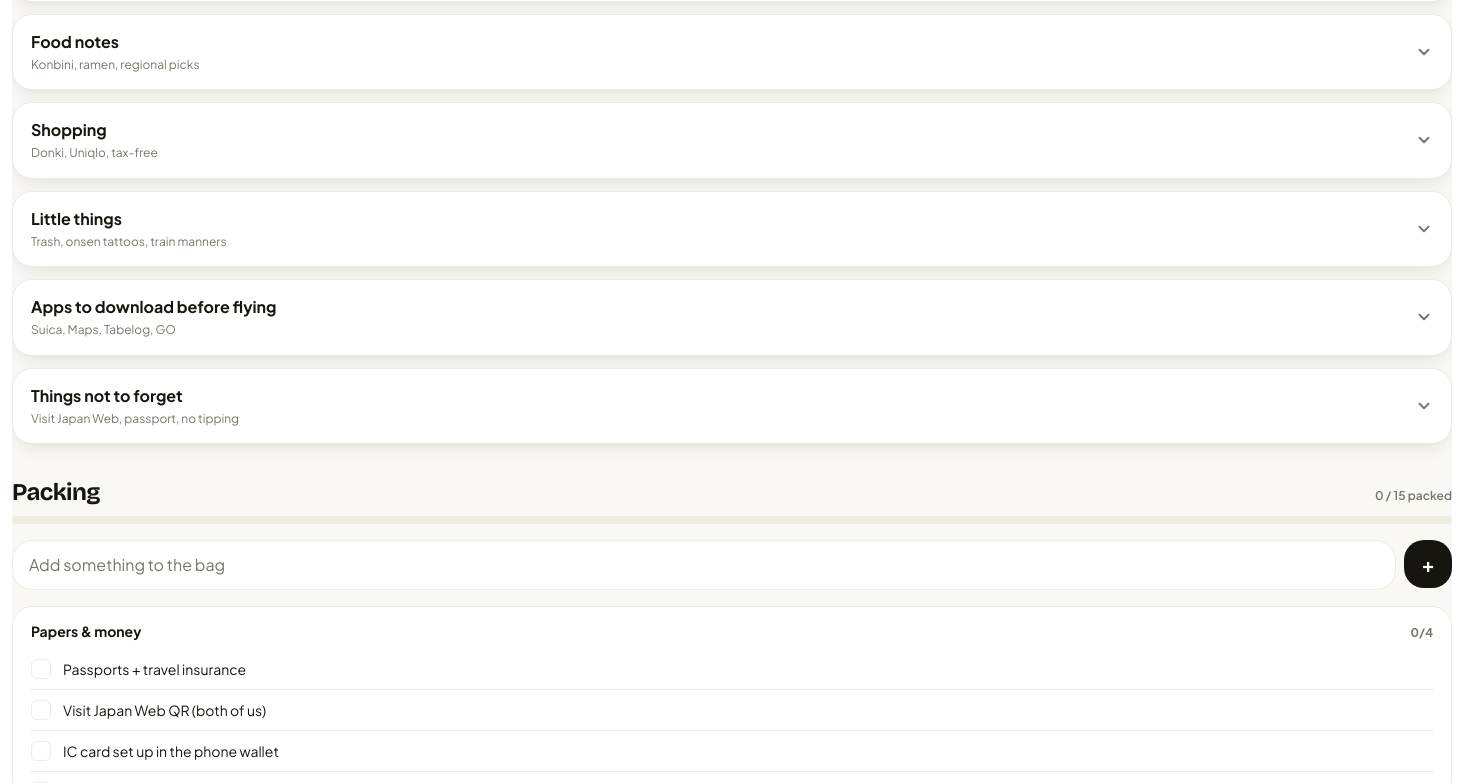
Test: TripEssentials › reminds a Japan trip about Visit Japan Web inside “Things not to forget”
The width and height of the screenshot is (1464, 783).
(page scrolled)
Step 1. Click the button "Things not to forget Visit Japan Web, passport, no tipping" → (107, 395), box [13, 369, 1451, 443]
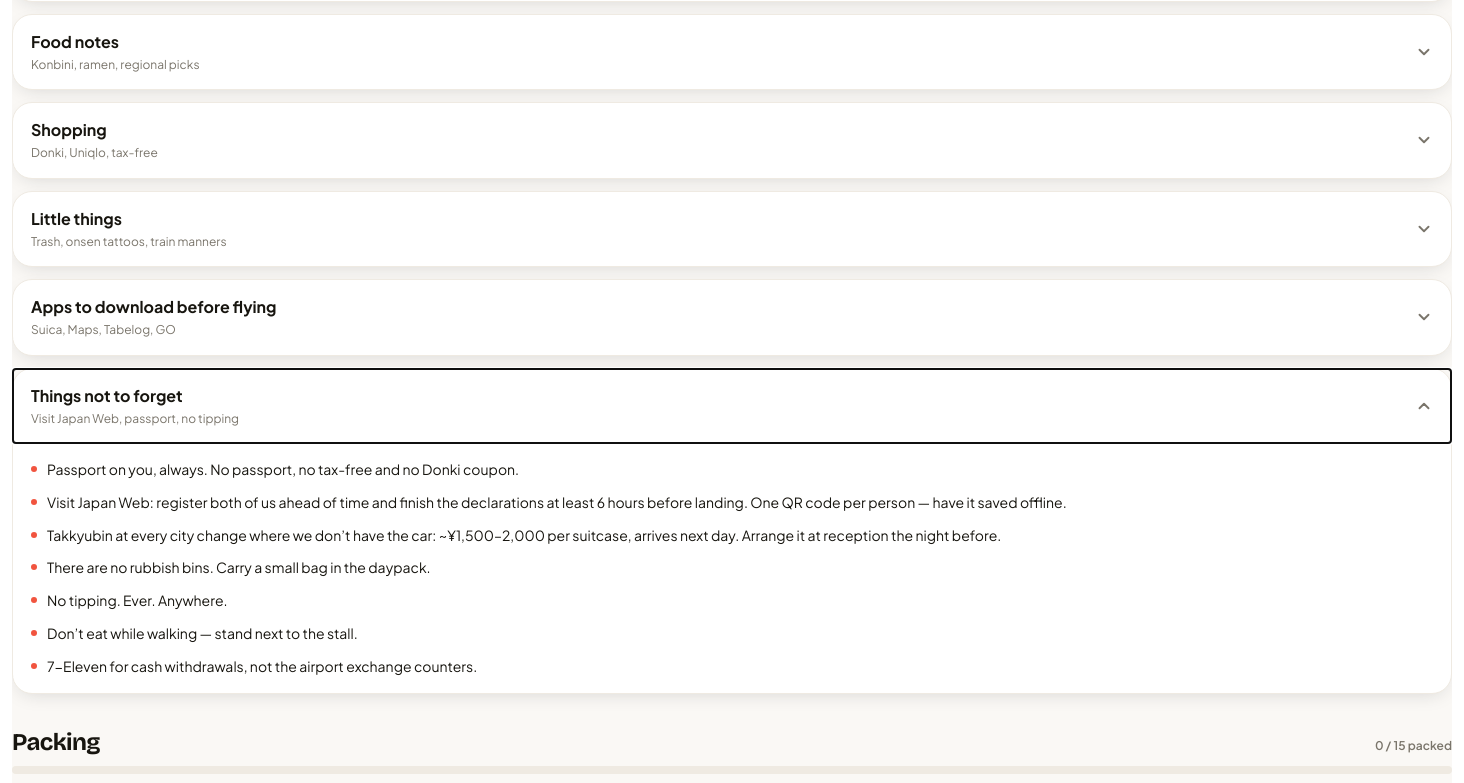
Result: the text "Visit Japan Web: register both of us" is shown at [47, 493, 1067, 511]
